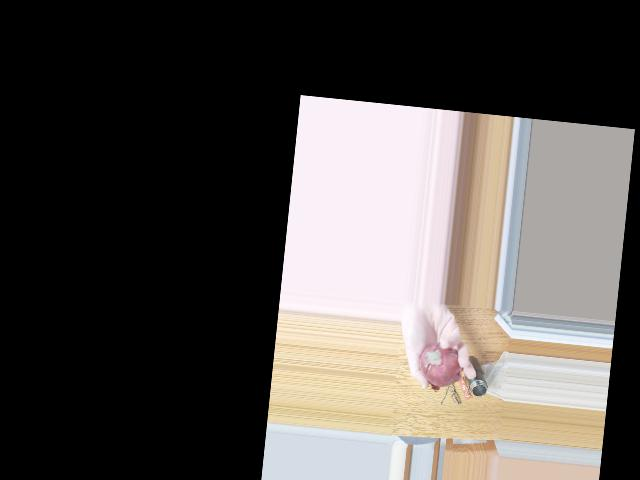onion: (418, 341, 456, 385)
